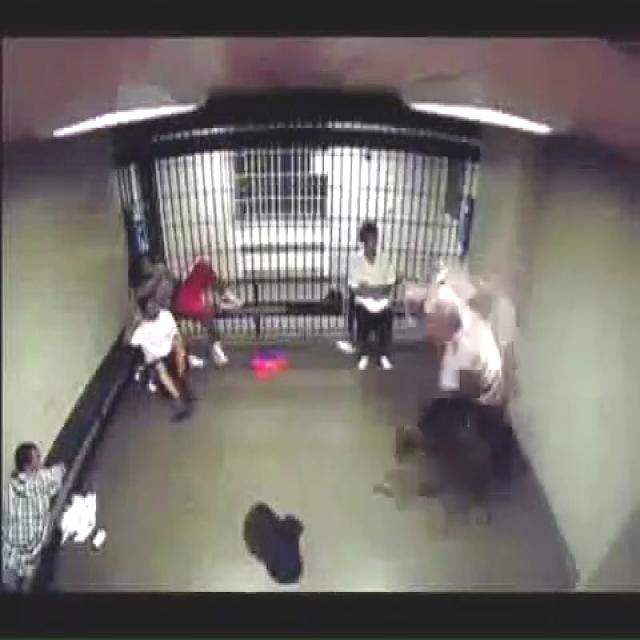fight: (397, 259, 527, 526)
